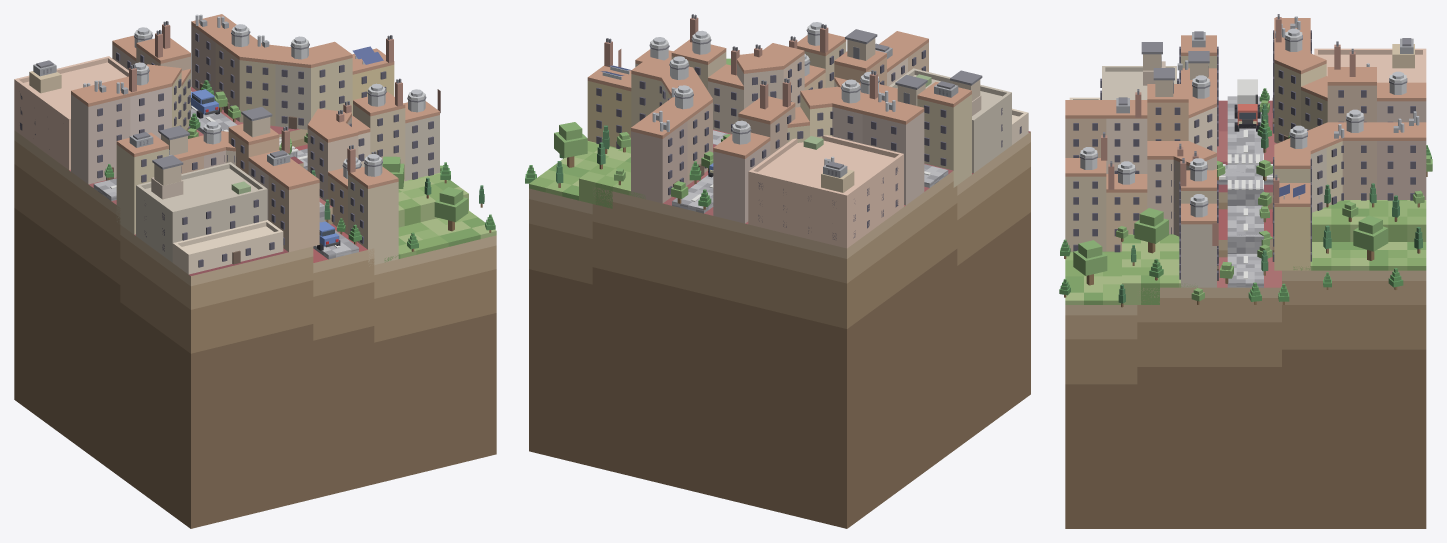
The model's file is block_18_permeable_20.glb.
3 views of the same model, side by side, from view 1: azimuth 30°, elevation 25°; view 2: azimuth 150°, elevation 25°; view 3: azimuth 270°, elevation 25° (orthographic). The views are drawn at different scales.
Visible parts, largest first — view 1: Patch_MidRight_b17_PP, Cerda_MidRight_b17_PP, Insets_MidRight_b17_PP, CerdaRoofProps_MidRight_b17_PP, Green_MidRight_b17_PP, Roads_MidRight_b17_PP, Asset_Tree_Round.071_PP, Asset_Car.038_PP; view 2: Patch_MidRight_b17_PP, Cerda_MidRight_b17_PP, Insets_MidRight_b17_PP, CerdaRoofProps_MidRight_b17_PP, Green_MidRight_b17_PP, Roads_MidRight_b17_PP, Asset_Tree_Round.064_PP; view 3: Patch_MidRight_b17_PP, Cerda_MidRight_b17_PP, Green_MidRight_b17_PP, CerdaRoofProps_MidRight_b17_PP, Roads_MidRight_b17_PP, Insets_MidRight_b17_PP, Asset_Truck.010_PP, Asset_Tree_Round.064_PP, Asset_Tree_Round.071_PP, Asset_Tree_Round.070_PP, Zebra_MidRight_b17_PP.
Part boxes in pixels (x1,y1,x2,y2): Patch_MidRight_b17_PP: [14, 87, 496, 528]; Cerda_MidRight_b17_PP: [71, 14, 439, 266]; Insets_MidRight_b17_PP: [14, 56, 283, 274]; CerdaRoofProps_MidRight_b17_PP: [33, 14, 440, 185]; Green_MidRight_b17_PP: [384, 172, 496, 262]; Roads_MidRight_b17_PP: [93, 91, 358, 259]; Asset_Tree_Round.071_PP: [434, 187, 468, 231]; Asset_Car.038_PP: [191, 89, 219, 118]; Patch_MidRight_b17_PP: [529, 129, 1030, 528]; Cerda_MidRight_b17_PP: [587, 31, 971, 223]; Insets_MidRight_b17_PP: [748, 68, 1028, 248]; CerdaRoofProps_MidRight_b17_PP: [601, 14, 982, 177]; Green_MidRight_b17_PP: [529, 141, 645, 208]; Roads_MidRight_b17_PP: [672, 130, 948, 213]; Asset_Tree_Round.064_PP: [554, 122, 587, 167]; Patch_MidRight_b17_PP: [1065, 100, 1426, 528]; Cerda_MidRight_b17_PP: [1065, 18, 1426, 287]; Green_MidRight_b17_PP: [1065, 200, 1426, 304]; CerdaRoofProps_MidRight_b17_PP: [1079, 14, 1419, 245]; Roads_MidRight_b17_PP: [1218, 96, 1272, 287]; Insets_MidRight_b17_PP: [1069, 44, 1426, 99]; Asset_Truck.010_PP: [1234, 79, 1260, 131]; Asset_Tree_Round.064_PP: [1353, 215, 1388, 260]; Asset_Tree_Round.071_PP: [1073, 240, 1107, 285]; Asset_Tree_Round.070_PP: [1134, 208, 1168, 253]; Zebra_MidRight_b17_PP: [1219, 154, 1273, 189].
Size of the model in its own units: 10.09 by 11.16 by 9.82.
